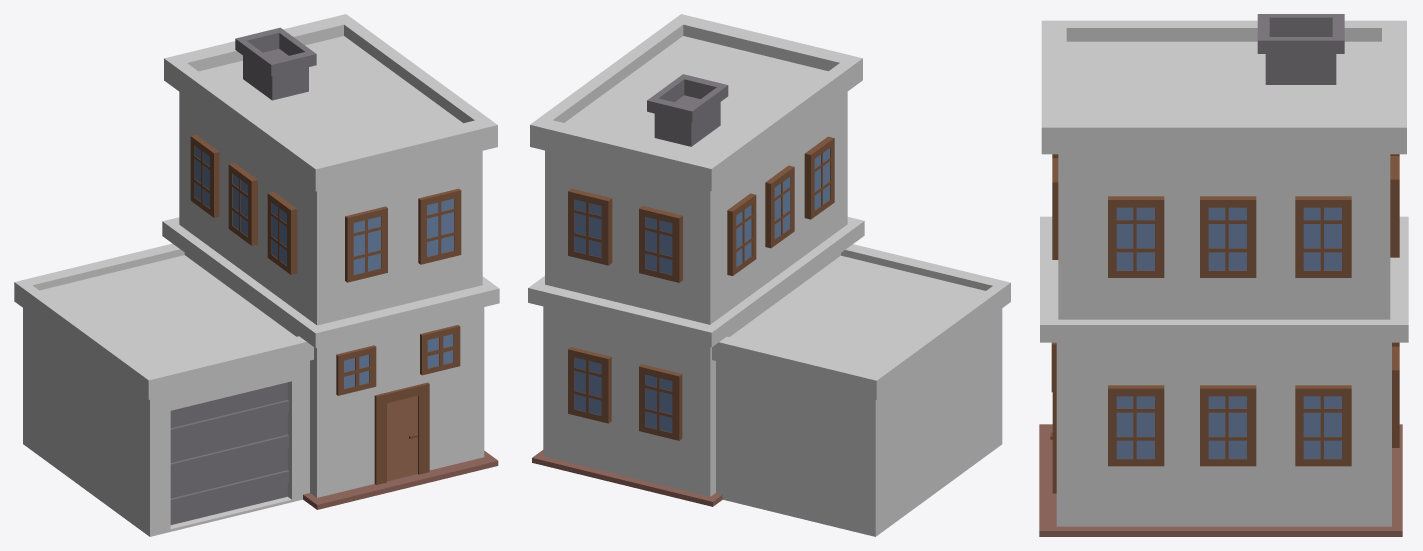
File: HouseGarage.fbx
3 views of the same model, side by side, from view 1: azimuth 30°, elevation 25°; view 2: azimuth 150°, elevation 25°; view 3: azimuth 270°, elevation 25° (orthographic). The views are drawn at different scales.
Parts seen in each view (by area): view 1: HouseGarage.001, HouseGarage; view 2: HouseGarage.001, HouseGarage; view 3: HouseGarage.001, HouseGarage.
Part boxes in pixels (bbox=[...]): HouseGarage.001: bbox=[14, 14, 499, 536]; HouseGarage: bbox=[170, 27, 498, 524]; HouseGarage.001: bbox=[528, 14, 1010, 536]; HouseGarage: bbox=[532, 74, 875, 536]; HouseGarage.001: bbox=[1040, 20, 1408, 526]; HouseGarage: bbox=[1039, 14, 1402, 536].
Size of the model in its own units: 841 by 867 by 656.
